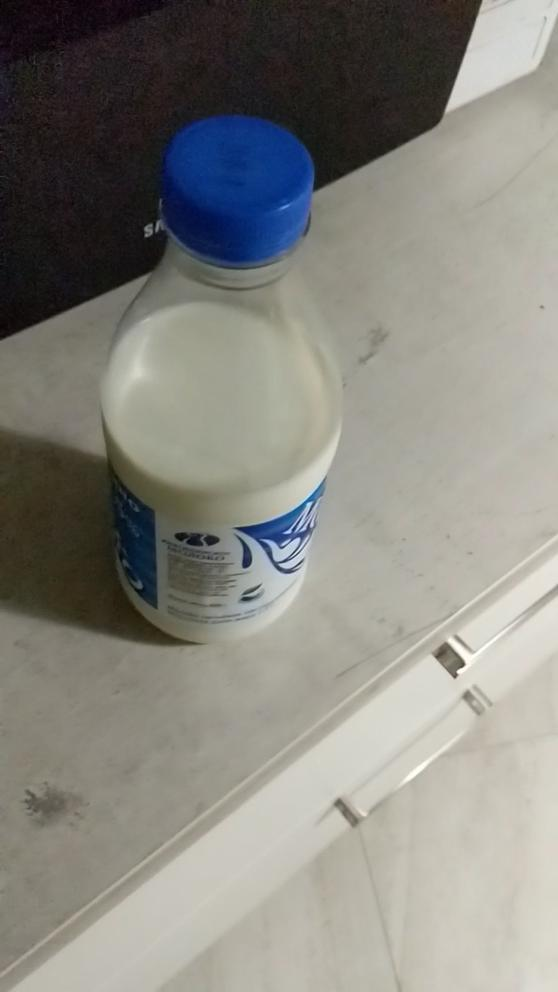milk: (80, 96, 360, 668)
